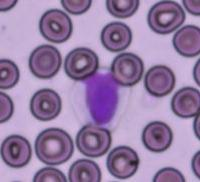L: (70, 67, 133, 132)
